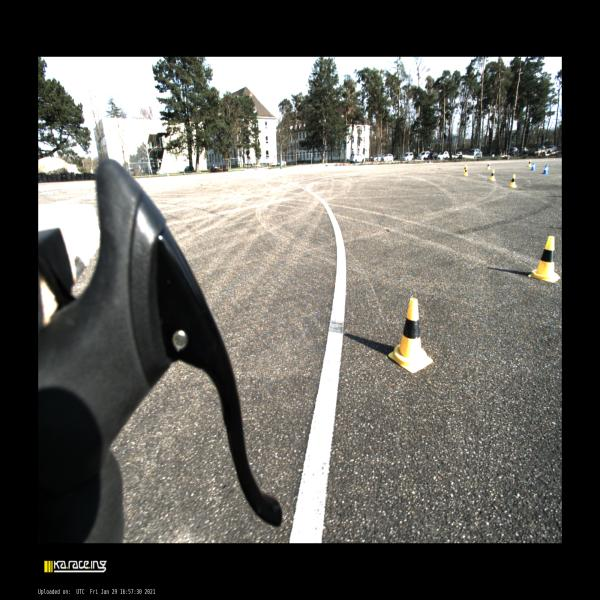blue_cone: (542, 164, 549, 174), (532, 162, 536, 170)
yellow_cone: (388, 298, 433, 373), (528, 236, 560, 283), (508, 174, 516, 188), (490, 169, 496, 181), (527, 159, 532, 167), (464, 167, 468, 176), (486, 162, 490, 170), (462, 165, 466, 172)
